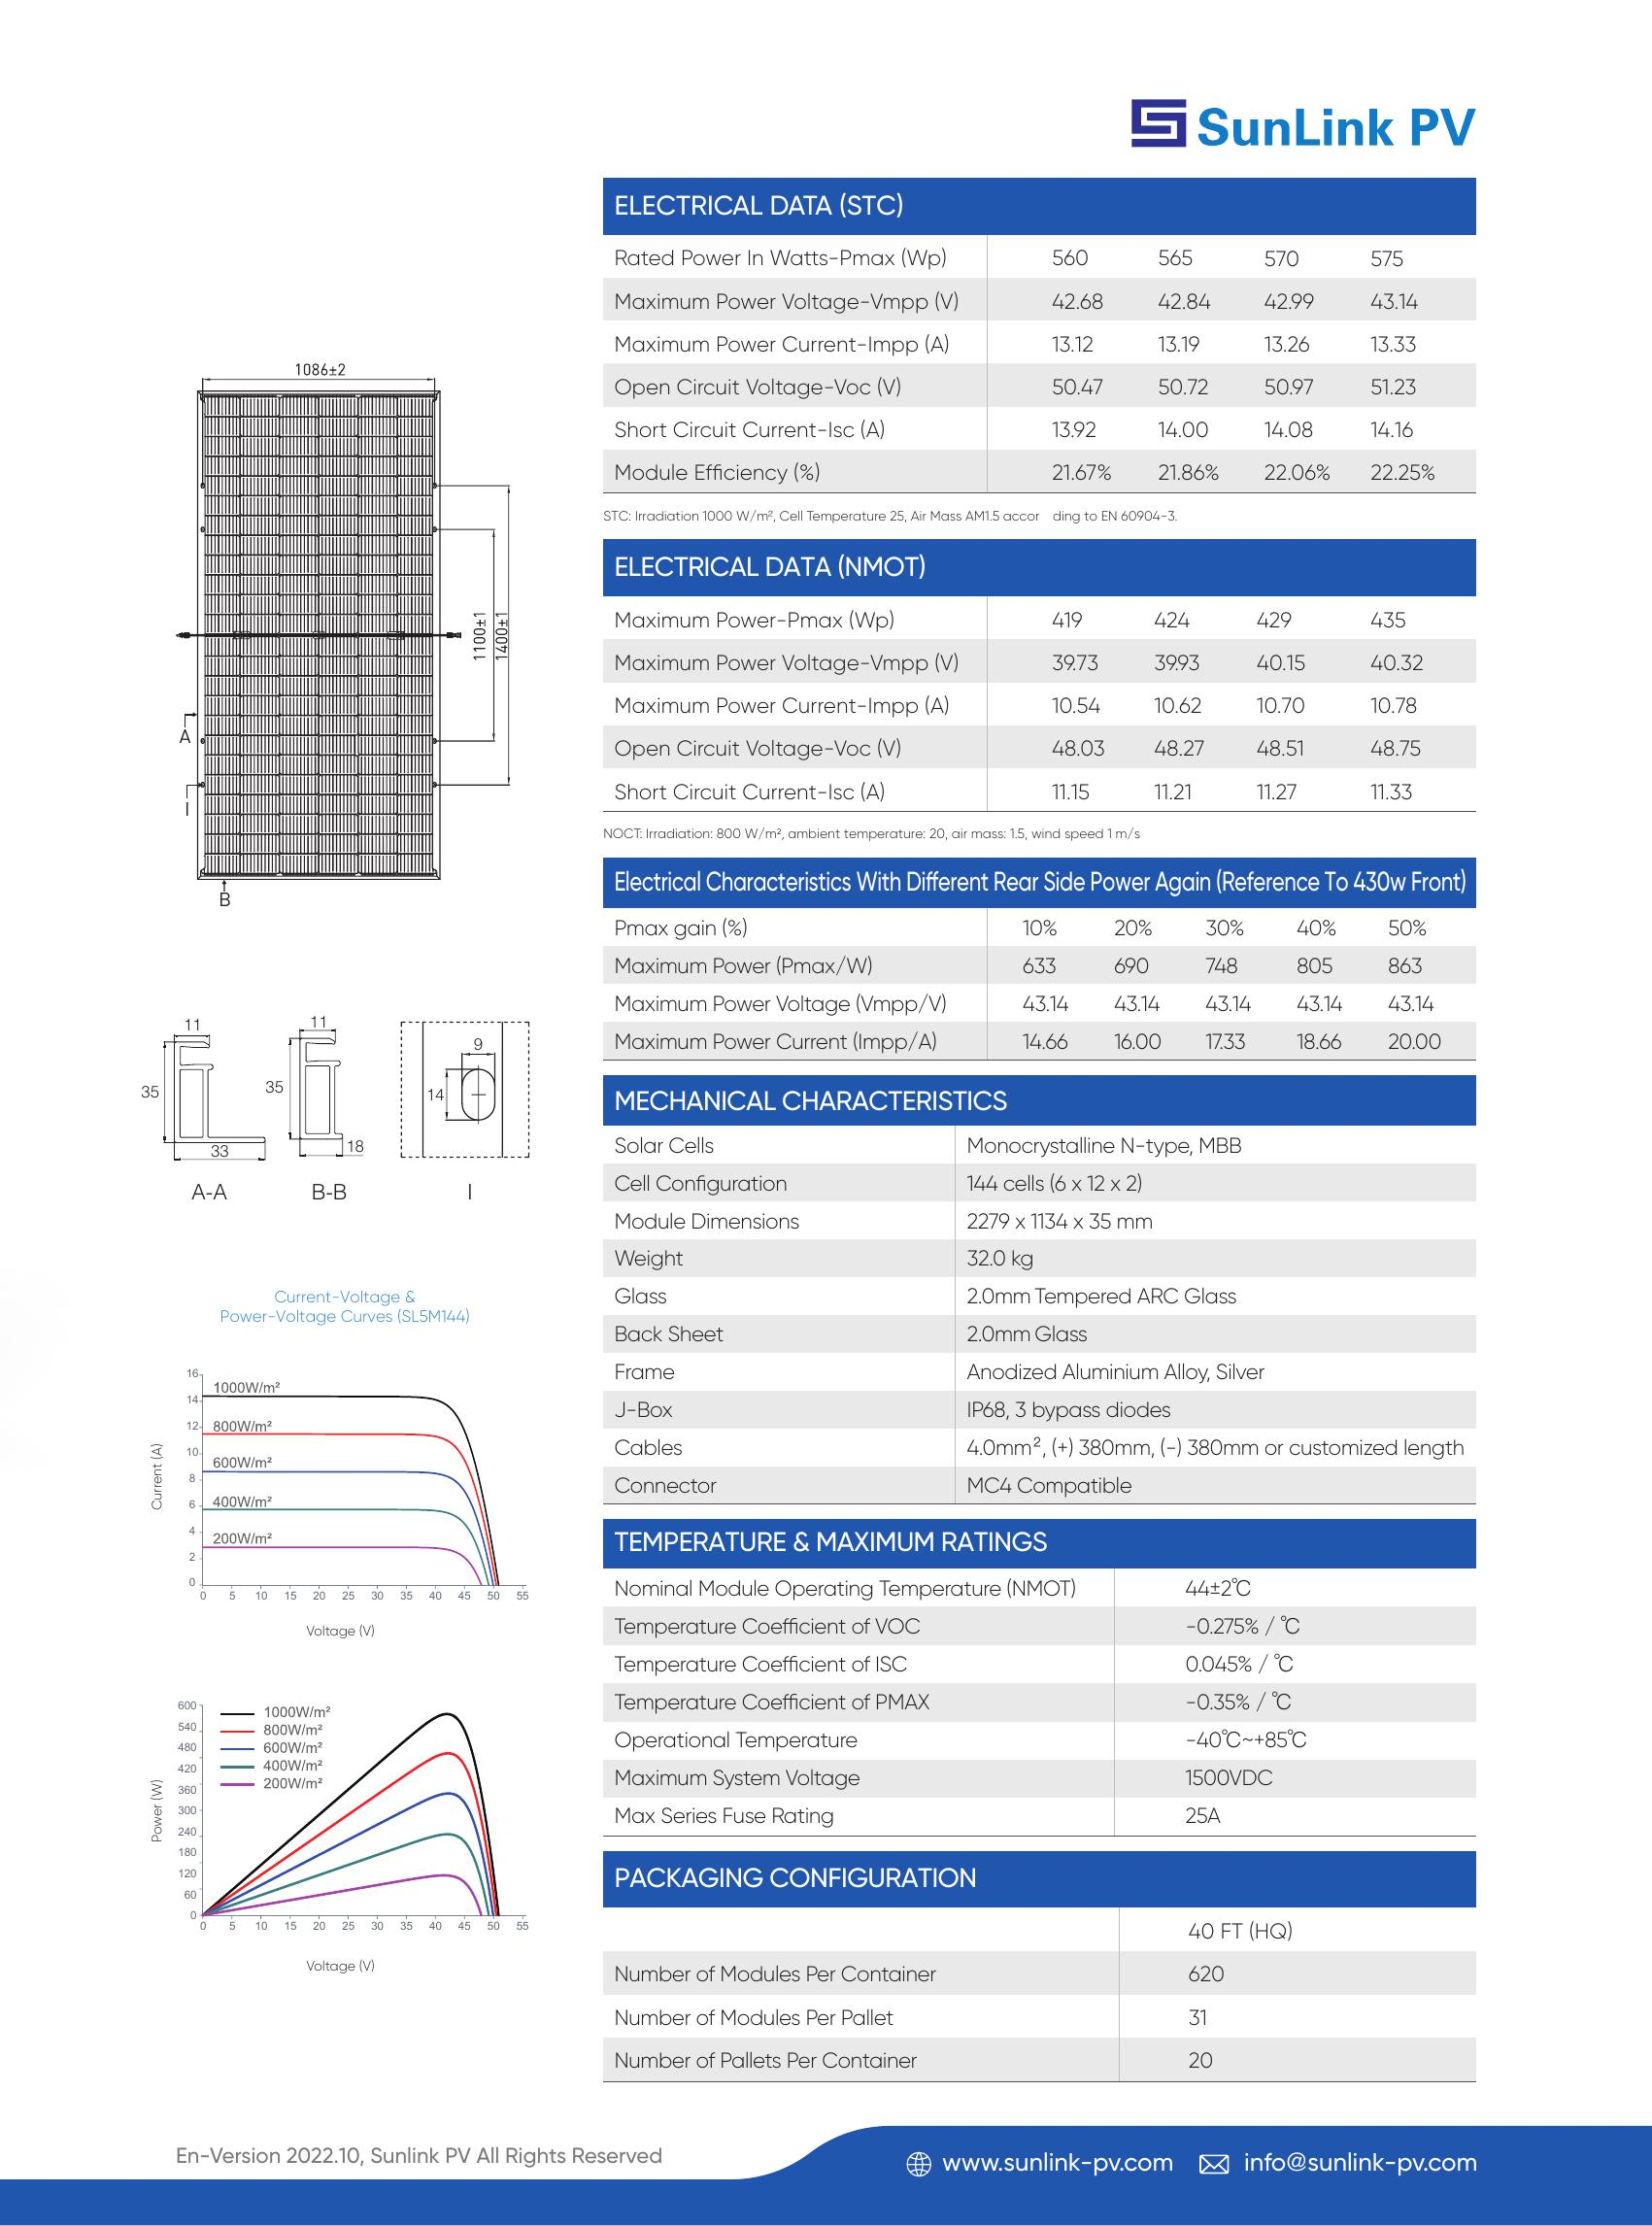table: (597, 1129, 1501, 1508), (599, 1572, 1489, 1843), (602, 238, 1485, 505), (602, 602, 1489, 817), (576, 1912, 1501, 2091), (599, 913, 1489, 1070)
